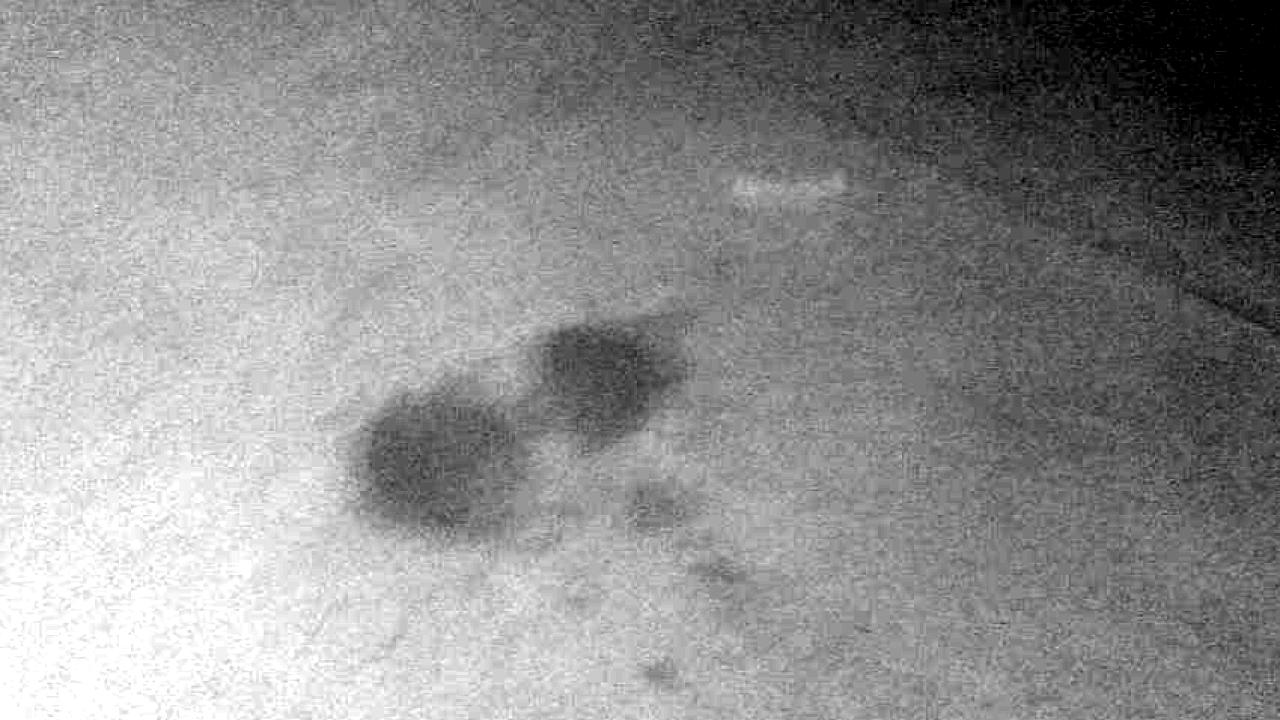drinks Stains: (360, 300, 694, 546)
